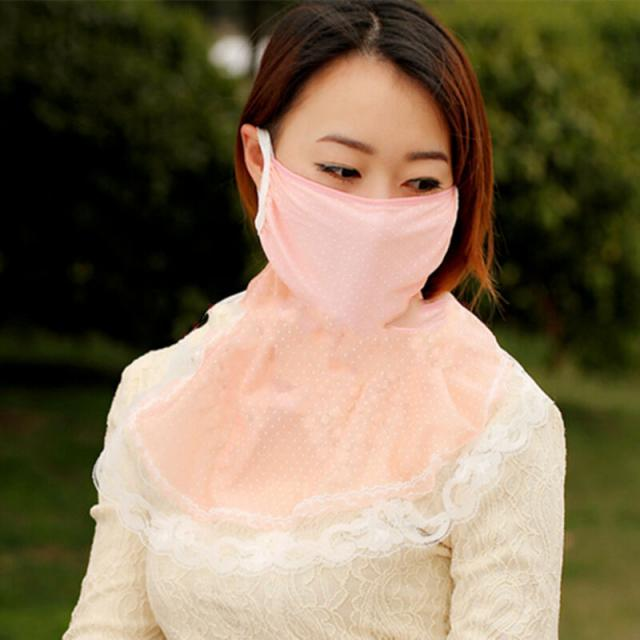mask: (269, 62, 454, 309)
